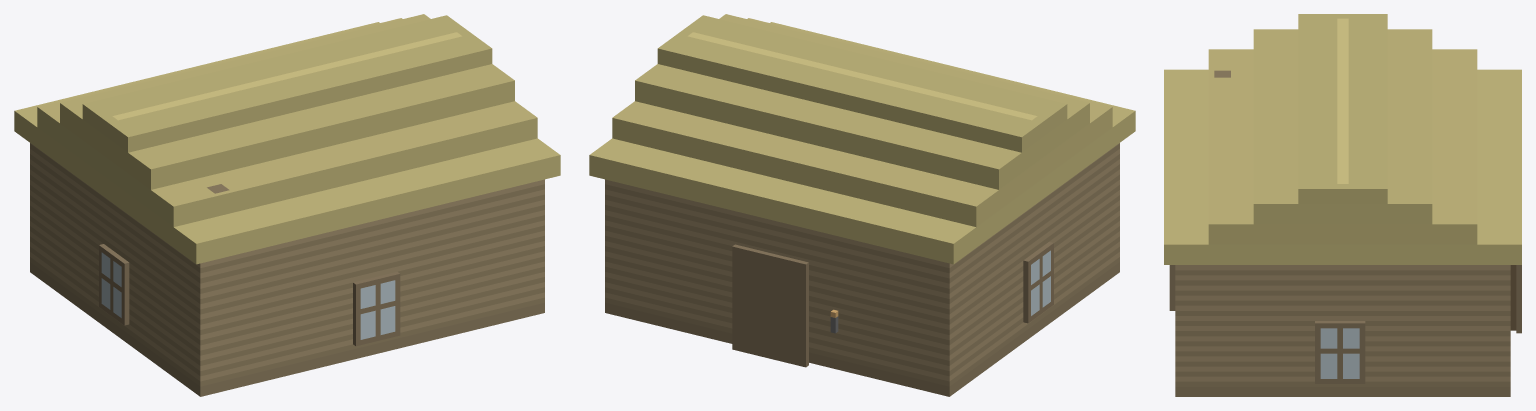
File: cabana_apicultor_01.glb
The picture shows the model from 3 angles, left to right: view 1: azimuth 30°, elevation 25°; view 2: azimuth 150°, elevation 25°; view 3: azimuth 270°, elevation 25°; orthographic projection.
Parts seen in each view (by area): view 1: cabana_apicultor_01; view 2: cabana_apicultor_01; view 3: cabana_apicultor_01.
Boxes of the visible parts, bbox=[...] form: cabana_apicultor_01: bbox=[14, 14, 560, 396]; cabana_apicultor_01: bbox=[589, 14, 1135, 396]; cabana_apicultor_01: bbox=[1164, 14, 1521, 396].
Bounding box in the file's own units: 7.4 × 4.2 × 6.4.
